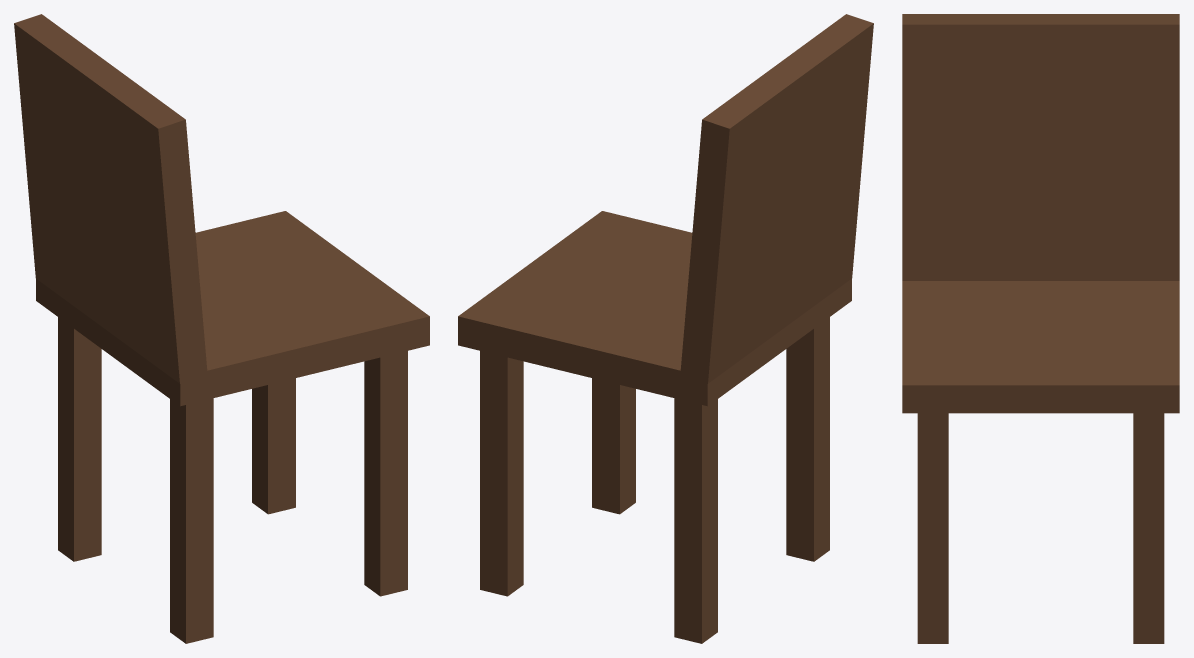
The model's file is chair.fbx.
The picture shows the model from 3 angles, left to right: view 1: azimuth 30°, elevation 25°; view 2: azimuth 150°, elevation 25°; view 3: azimuth 270°, elevation 25°; orthographic projection. The views are drawn at different scales.
Visible parts, largest first — view 1: Cube.002, Cube.001, Cube; view 2: Cube.002, Cube.001, Cube; view 3: Cube.002, Cube, Cube.001.
Boxes of the visible parts, bbox=[...] form: Cube.002: bbox=[14, 14, 207, 383]; Cube.001: bbox=[58, 317, 407, 643]; Cube: bbox=[36, 211, 429, 406]; Cube.002: bbox=[680, 14, 873, 383]; Cube.001: bbox=[480, 317, 829, 643]; Cube: bbox=[458, 211, 851, 406]; Cube.002: bbox=[902, 14, 1179, 280]; Cube: bbox=[902, 281, 1179, 413]; Cube.001: bbox=[917, 413, 1164, 643].
Bounding box in the file's own units: 97.9 × 183 × 90.
